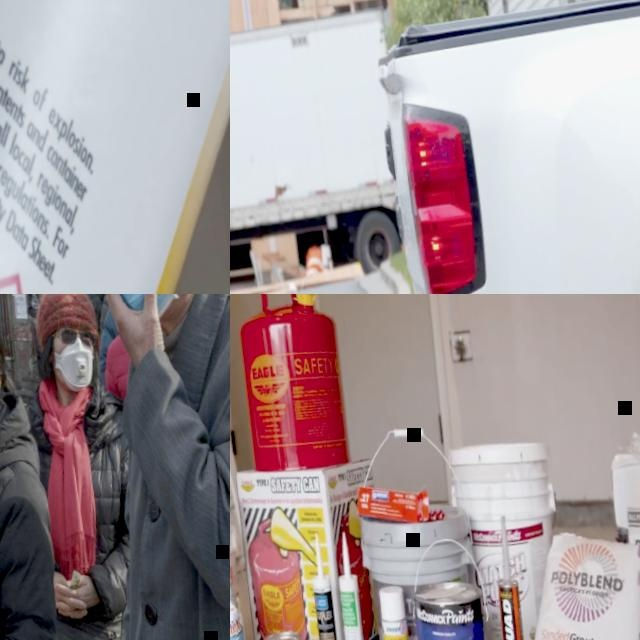Mask: (55, 335, 99, 393), (106, 294, 182, 326)
NO-Hardhat: (30, 294, 97, 336)
NO-Safety Vest: (79, 294, 230, 640), (11, 378, 141, 640), (0, 443, 59, 640), (88, 294, 116, 316)
Safety Cone: (304, 246, 327, 278)
vehicle: (289, 0, 640, 294)
